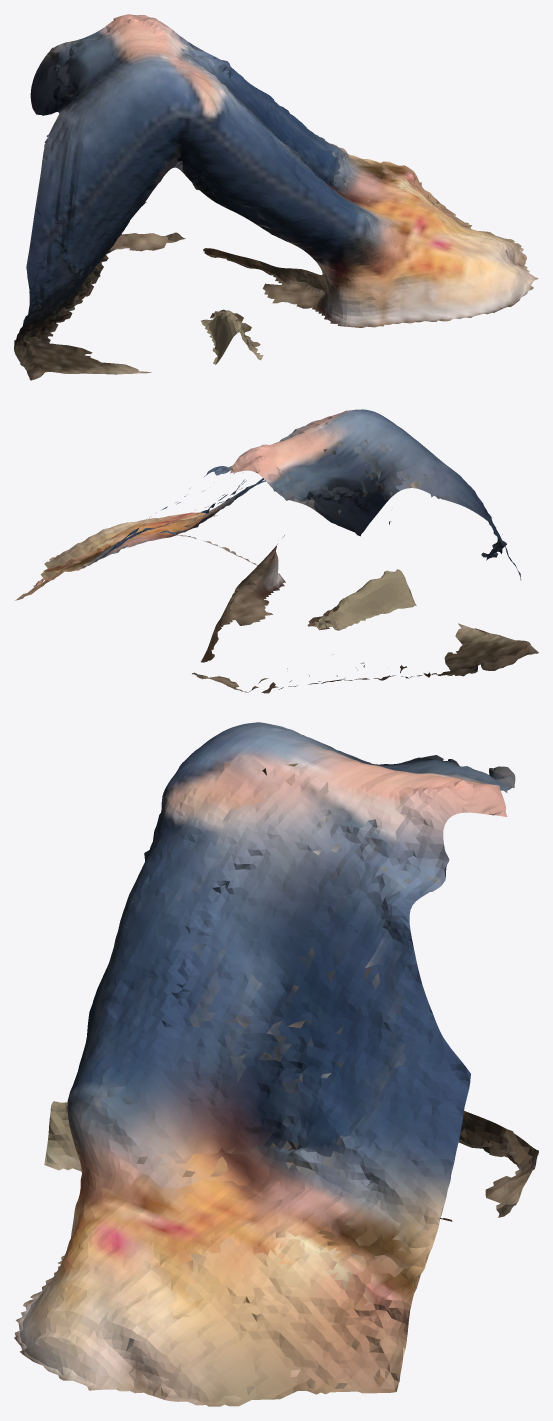
3 views of the same model, one above another, from view 1: azimuth 30°, elevation 25°; view 2: azimuth 150°, elevation 25°; view 3: azimuth 270°, elevation 25° (orthographic). The views are drawn at different scales.
Bounding box in the file's own units: 0.7733 × 0.3646 × 0.4337.
Materials: 1 (1 with a texture image).
